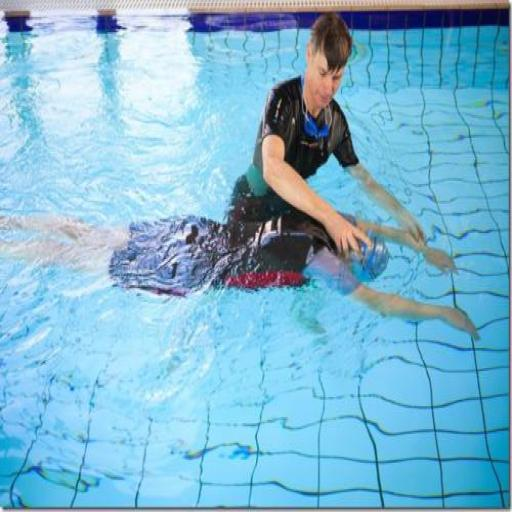swimming: (0, 10, 481, 343)
